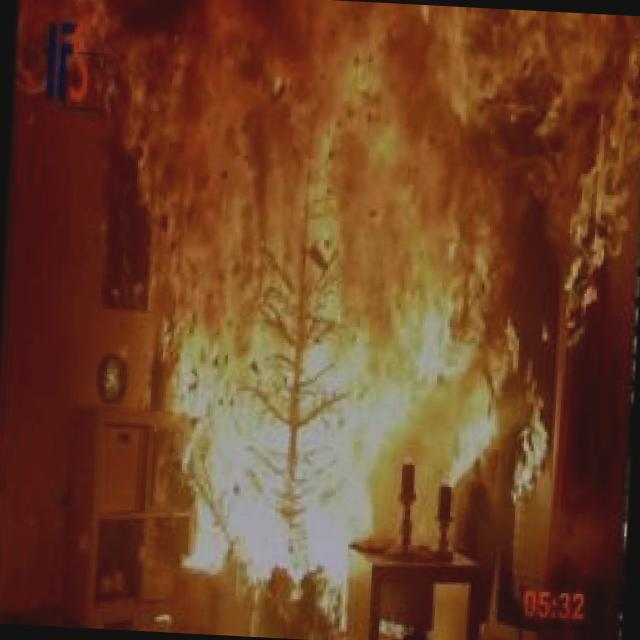fire: (0, 0, 638, 579)
